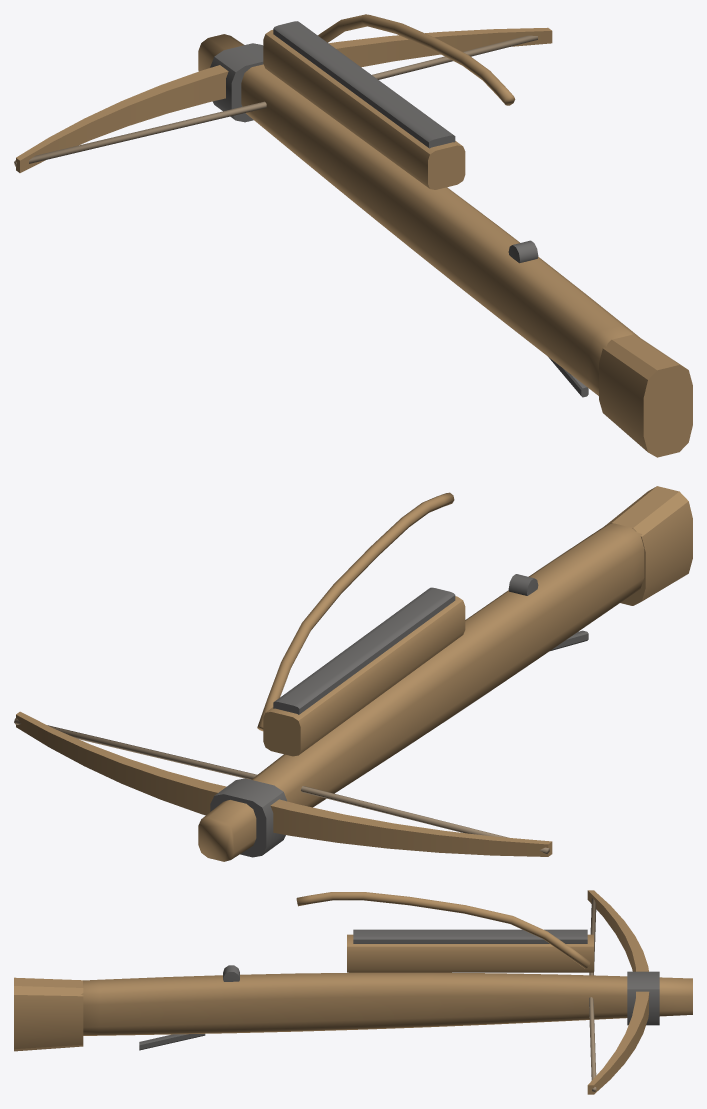
The model's file is repeating-light-crossbow.glb.
3 views of the same model, one above another, from view 1: azimuth 30°, elevation 25°; view 2: azimuth 150°, elevation 25°; view 3: azimuth 270°, elevation 25° (orthographic). The views are drawn at different scales.
Visible parts, largest first — view 1: repeating-light-crossbow; view 2: repeating-light-crossbow; view 3: repeating-light-crossbow.
Part boxes in pixels (x1,y1,x2,y2): repeating-light-crossbow: (14,14,692,457); repeating-light-crossbow: (14,486,692,861); repeating-light-crossbow: (14,890,692,1094).
Bounding box in the file's own units: 1.4 × 0.5655 × 2.06.
